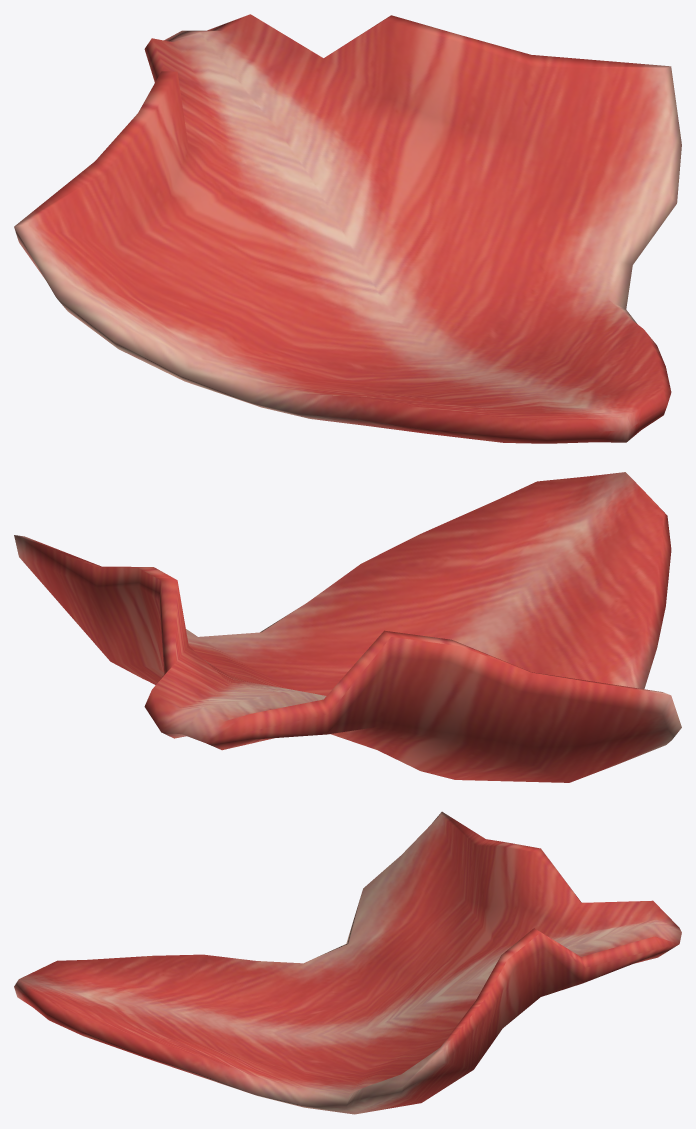
Rendered from Trapezio.fbx.
3 views of the same model, one above another, from view 1: azimuth 30°, elevation 25°; view 2: azimuth 150°, elevation 25°; view 3: azimuth 270°, elevation 25° (orthographic). The views are drawn at different scales.
Visible parts, largest first — view 1: Trapezio; view 2: Trapezio; view 3: Trapezio.
Boxes of the visible parts, x1,y1,x2,y2 form: Trapezio: (14, 14, 681, 443); Trapezio: (14, 472, 681, 782); Trapezio: (14, 811, 681, 1114).
Size of the model in its own units: 125 by 42.42 by 147.
